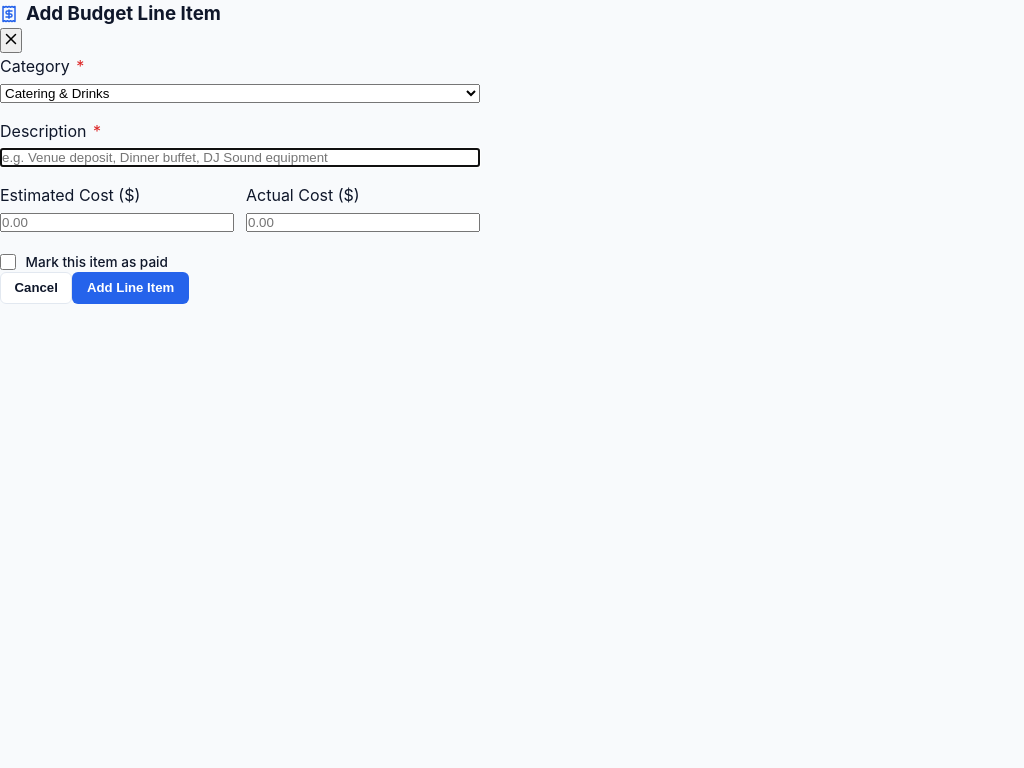
BudgetLineItemModal Component (Sub-Task 3.4.3b) › validates required description
Click the button "Add Line Item" at (131, 288), box [72,272,189,304]
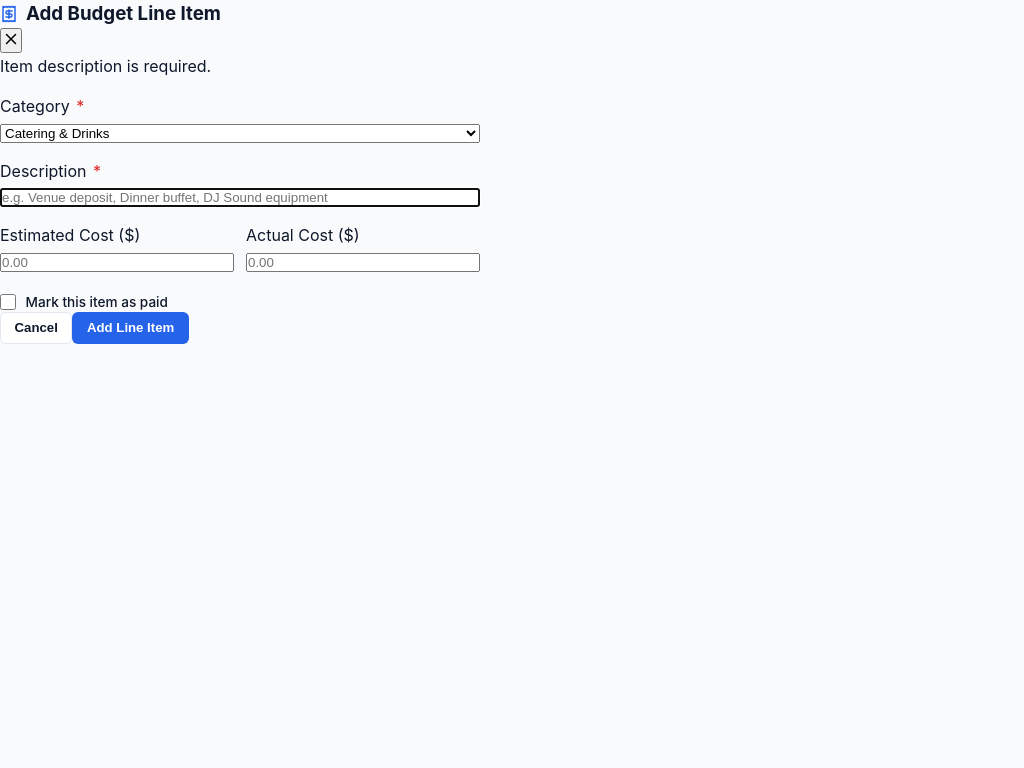
Check: the text "Item description is required." is shown, box [0,56,211,76]
